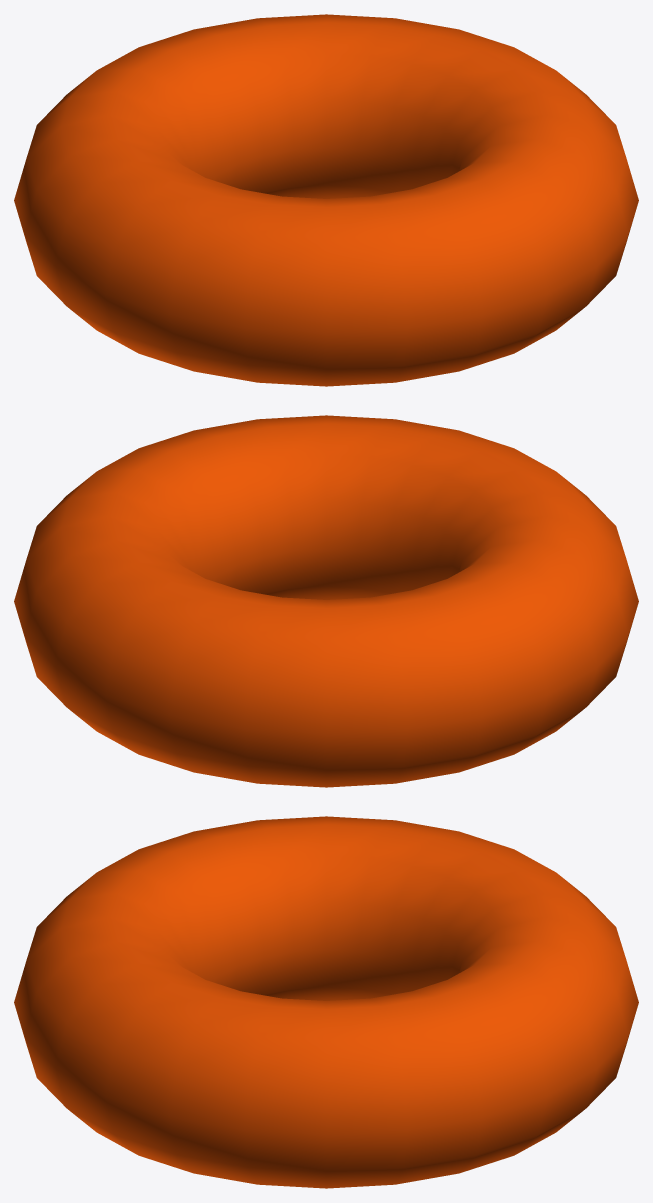
The model's file is donut.glb.
3 renders of one model, top to bottom at view 1: azimuth 30°, elevation 25°; view 2: azimuth 150°, elevation 25°; view 3: azimuth 270°, elevation 25°, orthographic.
Visible parts, largest first — view 1: Torus; view 2: Torus; view 3: Torus.
Part boxes in pixels (<box>): Torus: <box>14,14,638,386</box>; Torus: <box>14,415,638,787</box>; Torus: <box>14,816,638,1188</box>.
Size of the model in its own units: 1.66 by 0.5 by 1.66.
